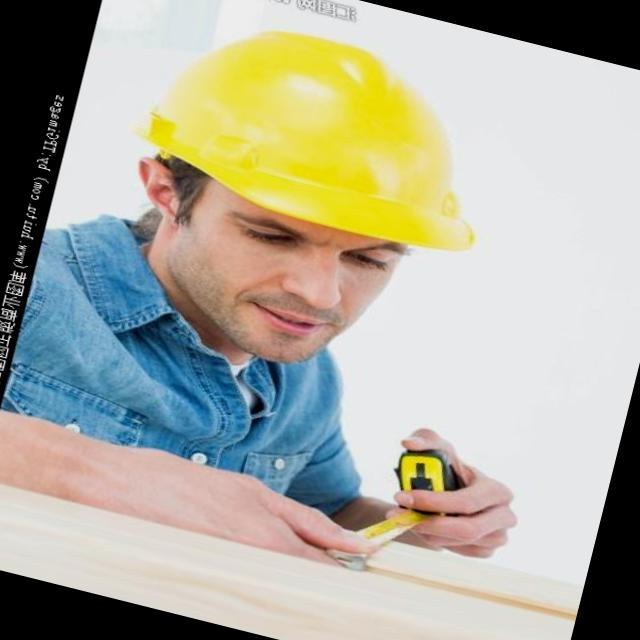helmet: (120, 0, 529, 265)
no-vest: (0, 201, 386, 494)
